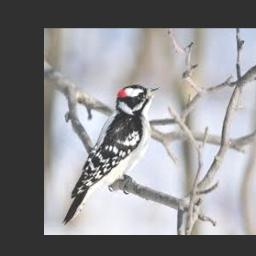Woodpecker: (62, 85, 161, 225)
